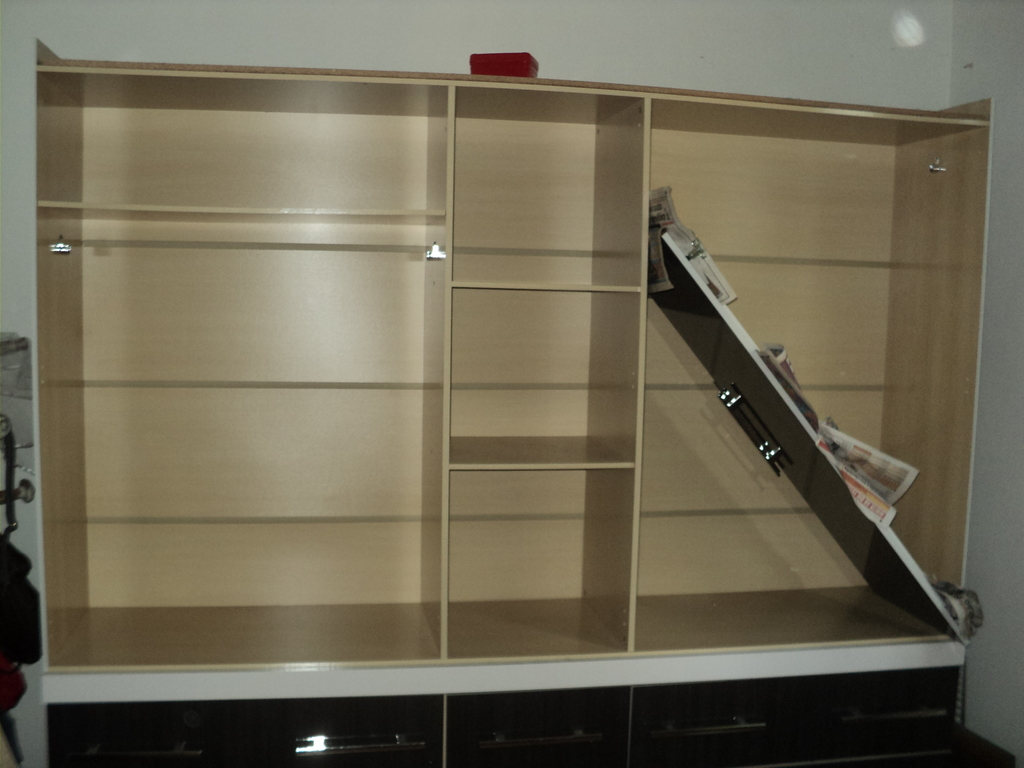cabinet door: (246, 701, 440, 768), (794, 684, 954, 763), (631, 685, 782, 768), (459, 698, 635, 768), (54, 706, 246, 768)
handle: (486, 722, 605, 759), (295, 735, 427, 765), (66, 743, 210, 768), (834, 702, 950, 729), (660, 719, 765, 737)
